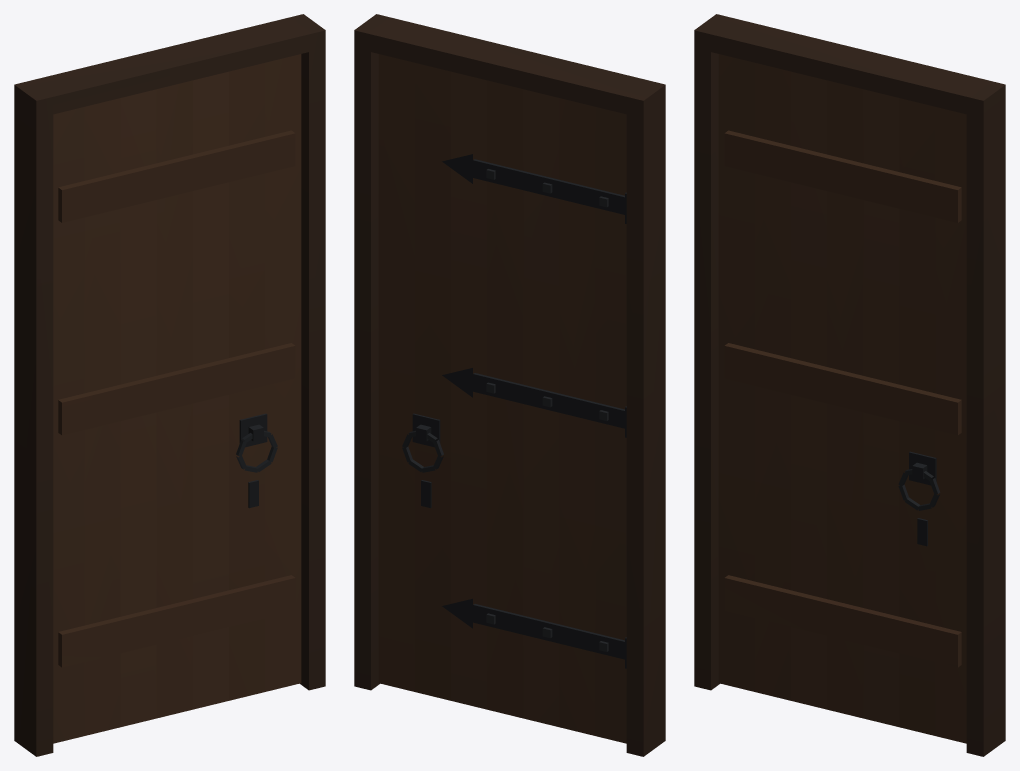
Rendered from door.oak_slim.dark.glb.
The picture shows the model from 3 angles, left to right: view 1: azimuth 30°, elevation 25°; view 2: azimuth 150°, elevation 25°; view 3: azimuth 330°, elevation 25°; orthographic projection.
Visible parts, largest first — view 1: door_oak_slim_dark; view 2: door_oak_slim_dark; view 3: door_oak_slim_dark.
Part boxes in pixels (x1,y1,x2,y2): door_oak_slim_dark: (14, 14, 325, 756); door_oak_slim_dark: (354, 14, 665, 756); door_oak_slim_dark: (694, 14, 1005, 756).
Size of what is drawn, in the model's own units: 1.2 by 2.6 by 0.16.
